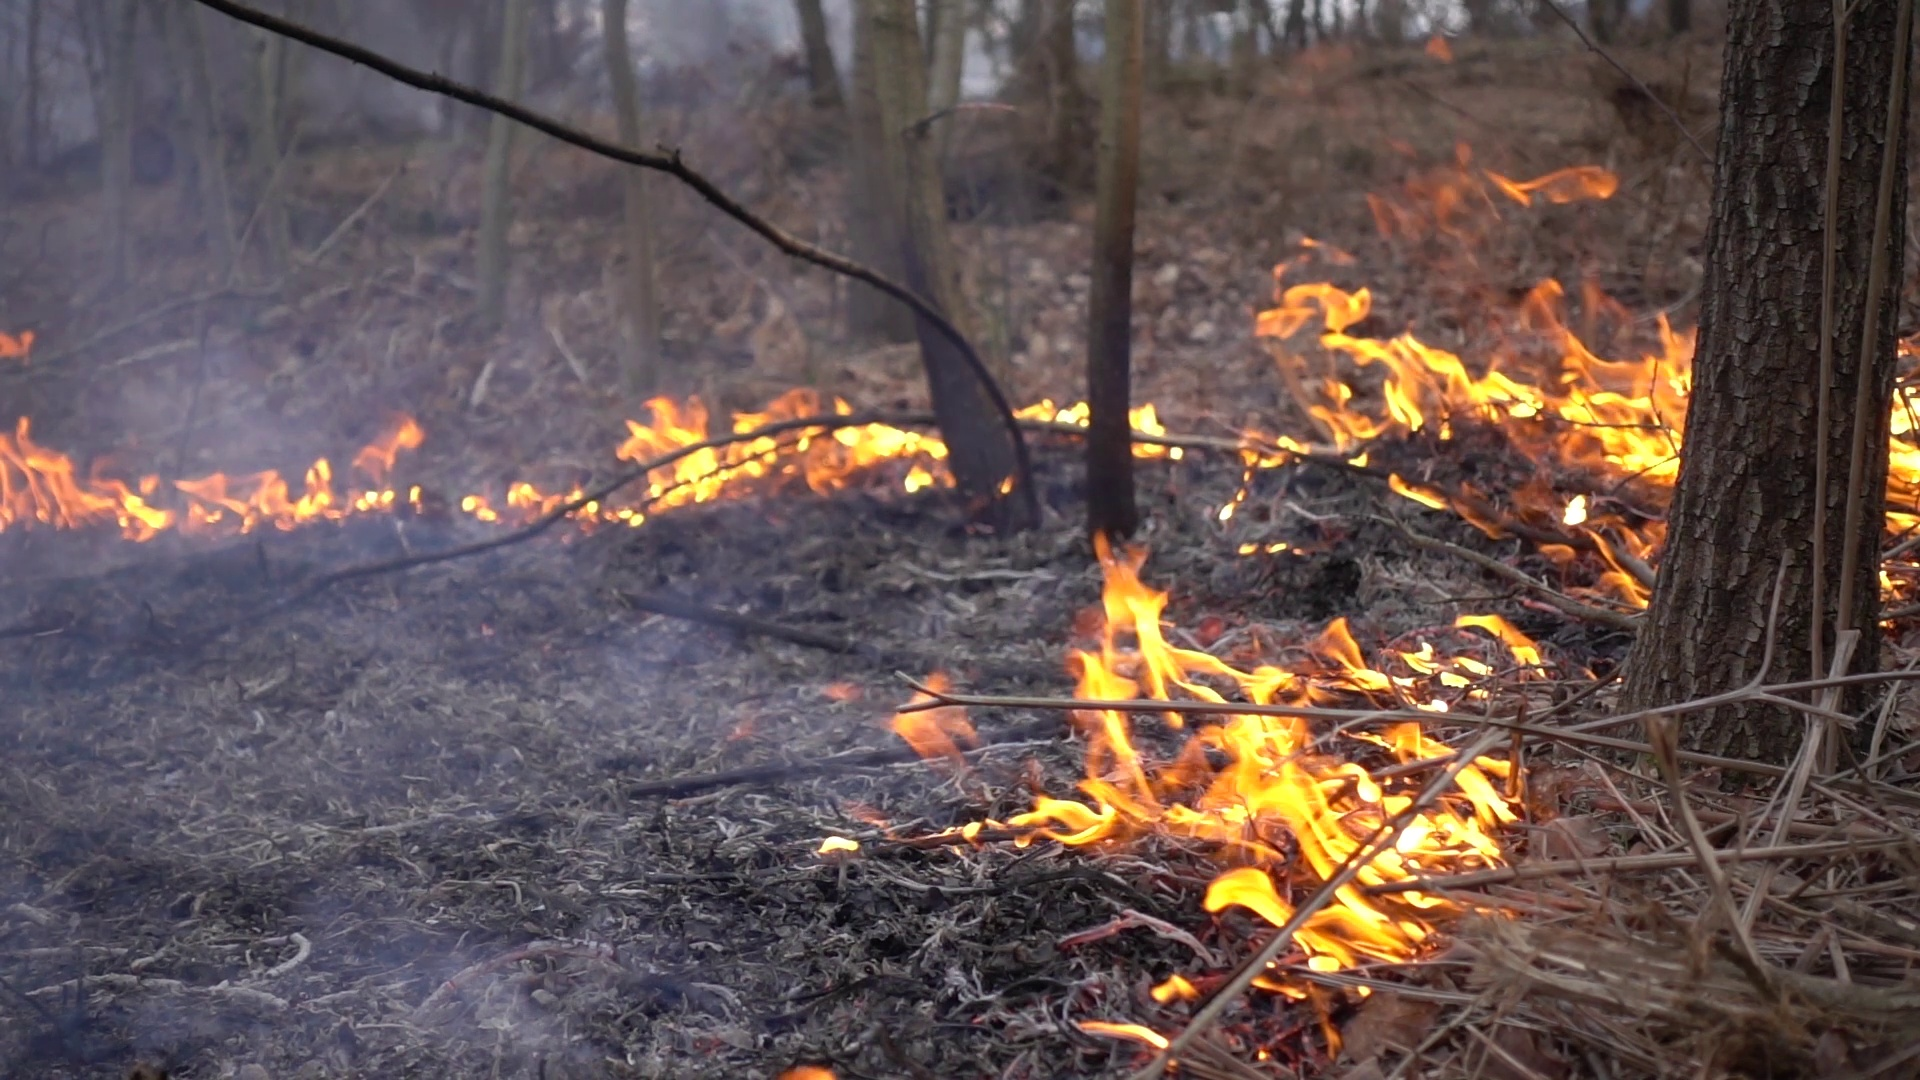fire: (1067, 555, 1516, 975), (1233, 251, 1677, 506), (615, 393, 942, 500), (7, 450, 343, 527), (1891, 384, 1920, 502), (1134, 404, 1162, 447)
